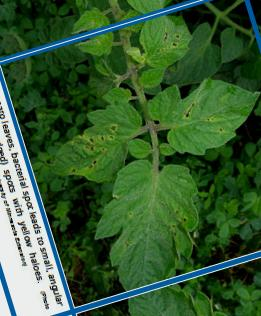Tomato leaf bacterial spot: (78, 147, 225, 296), (140, 65, 261, 175), (37, 92, 158, 195), (127, 9, 200, 79)
